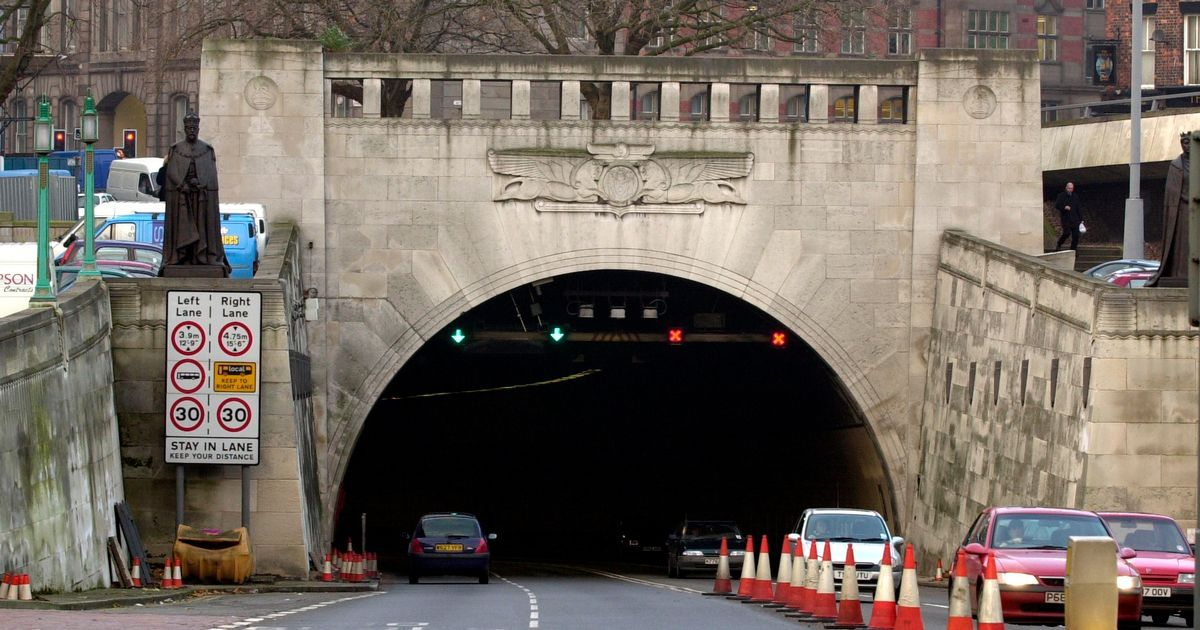bridge: (201, 44, 1052, 587)
